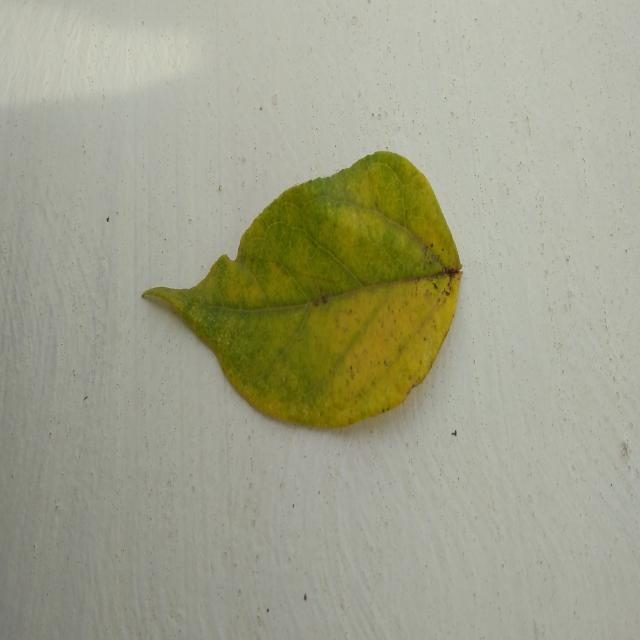Parijatha: (144, 151, 461, 427)
